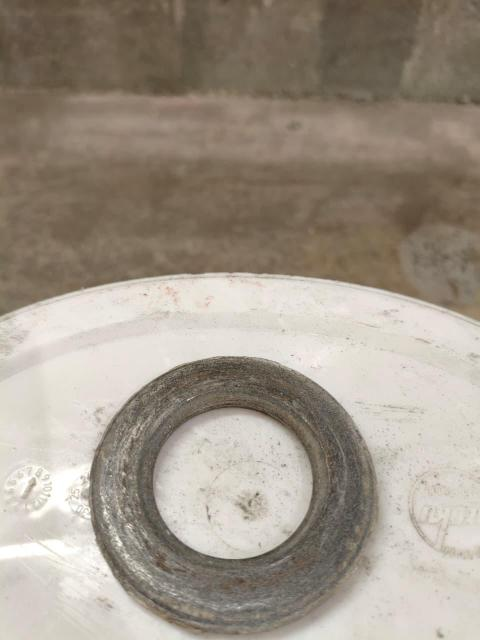Metal: (89, 356, 378, 633)
